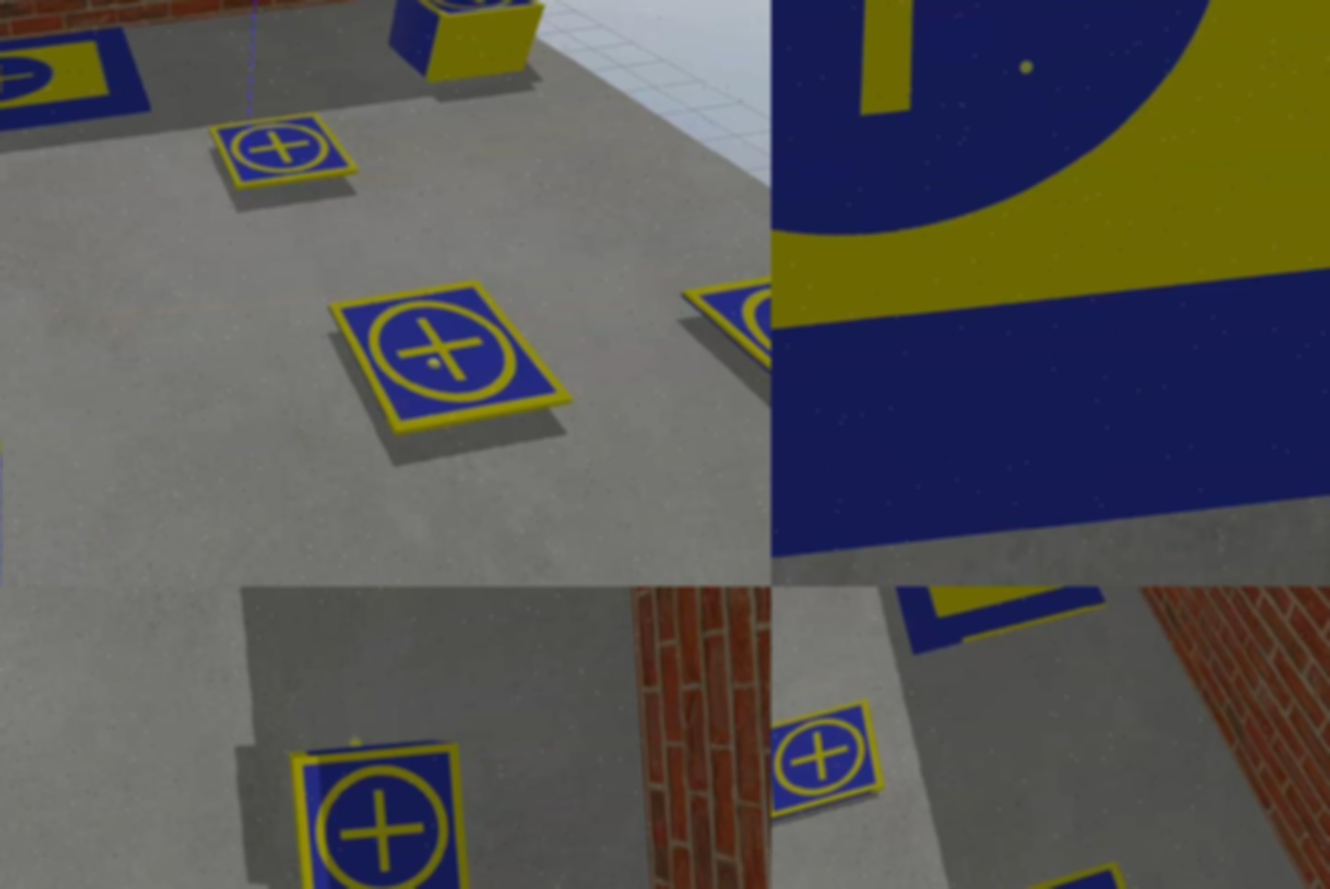large_base: (771, 1, 1330, 562), (1, 23, 157, 154), (865, 587, 1113, 658)
small_base: (324, 271, 579, 443), (289, 741, 473, 889), (771, 698, 885, 826), (675, 269, 771, 409), (208, 109, 361, 194), (398, 1, 545, 30)
